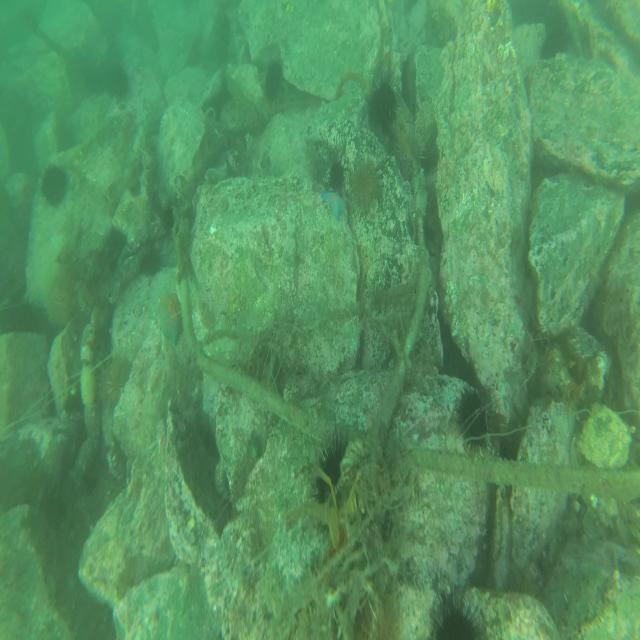echinus: (430, 580, 484, 640), (311, 429, 354, 503), (454, 386, 494, 456), (95, 345, 132, 409), (41, 268, 73, 322), (347, 157, 378, 207), (398, 120, 424, 175), (36, 159, 68, 202), (367, 77, 395, 126), (328, 155, 344, 192)
starfish: (153, 288, 186, 348)
